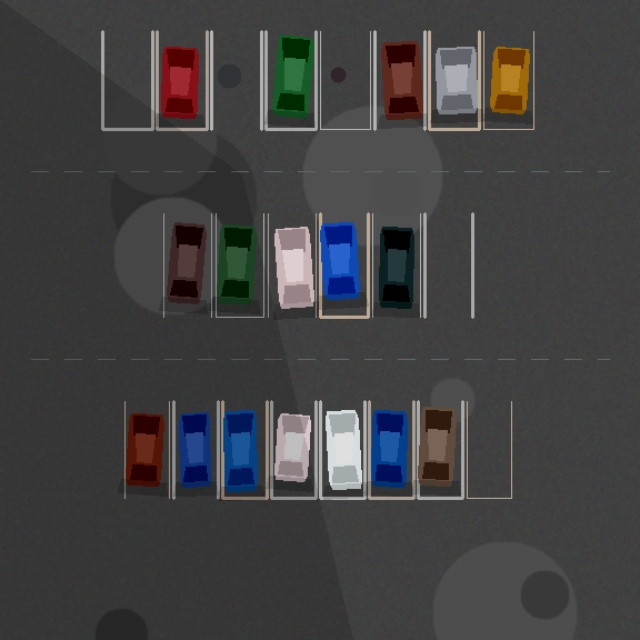space-empty: (424, 213, 472, 317), (102, 31, 152, 129), (211, 31, 261, 129), (320, 31, 370, 129), (467, 401, 511, 498)
space-occupied: (163, 213, 211, 317), (268, 213, 316, 317), (320, 213, 368, 317), (372, 213, 420, 317), (157, 31, 207, 129), (266, 31, 316, 129), (374, 31, 424, 129), (429, 31, 479, 129), (483, 31, 533, 129), (216, 213, 263, 317), (124, 401, 169, 498), (173, 401, 218, 498), (222, 401, 267, 498), (271, 401, 316, 498), (320, 401, 364, 498), (369, 401, 413, 498), (418, 401, 462, 498)
